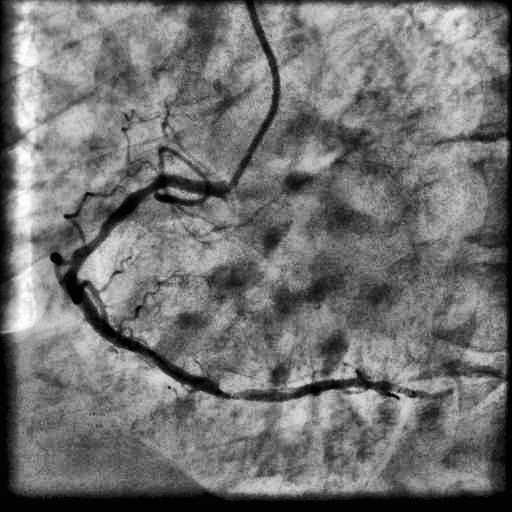pda: (393, 385, 453, 399)
rca: (64, 174, 393, 401)
